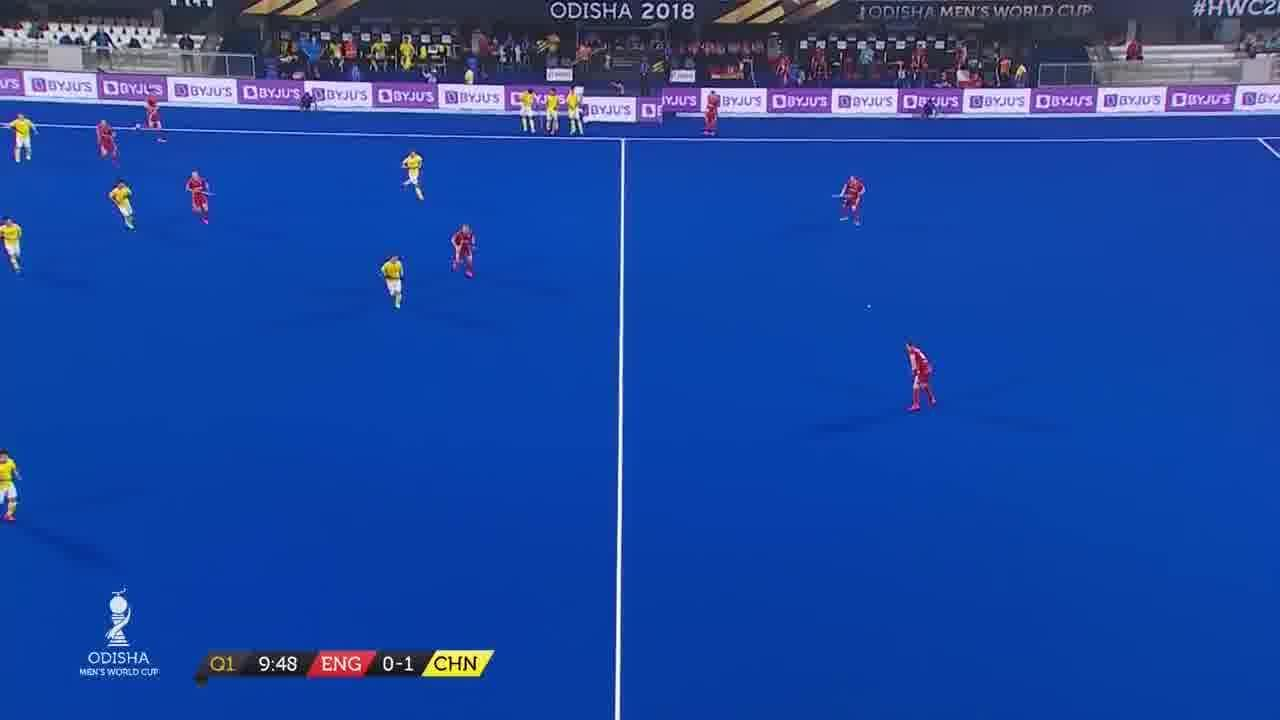ball: (864, 302, 875, 312)
